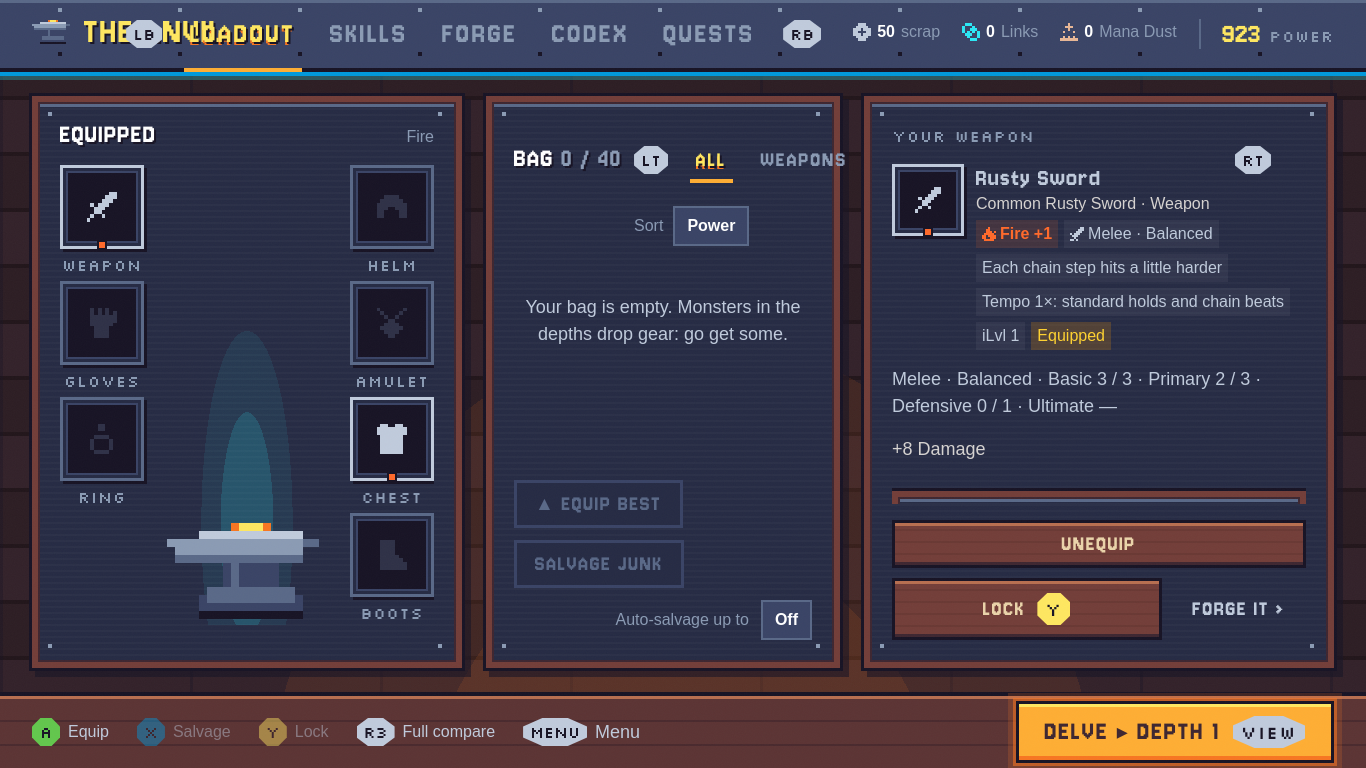
Test: AnvilHub › the footer's Menu (Esc / Menu) opens the system menu, and Resume closes it
Expected: the picture "Menu" is shown, top-left (523, 718), bottom-right (587, 746)
Click the button "Menu Menu": (582, 732) top-left (523, 716), bottom-right (640, 748)
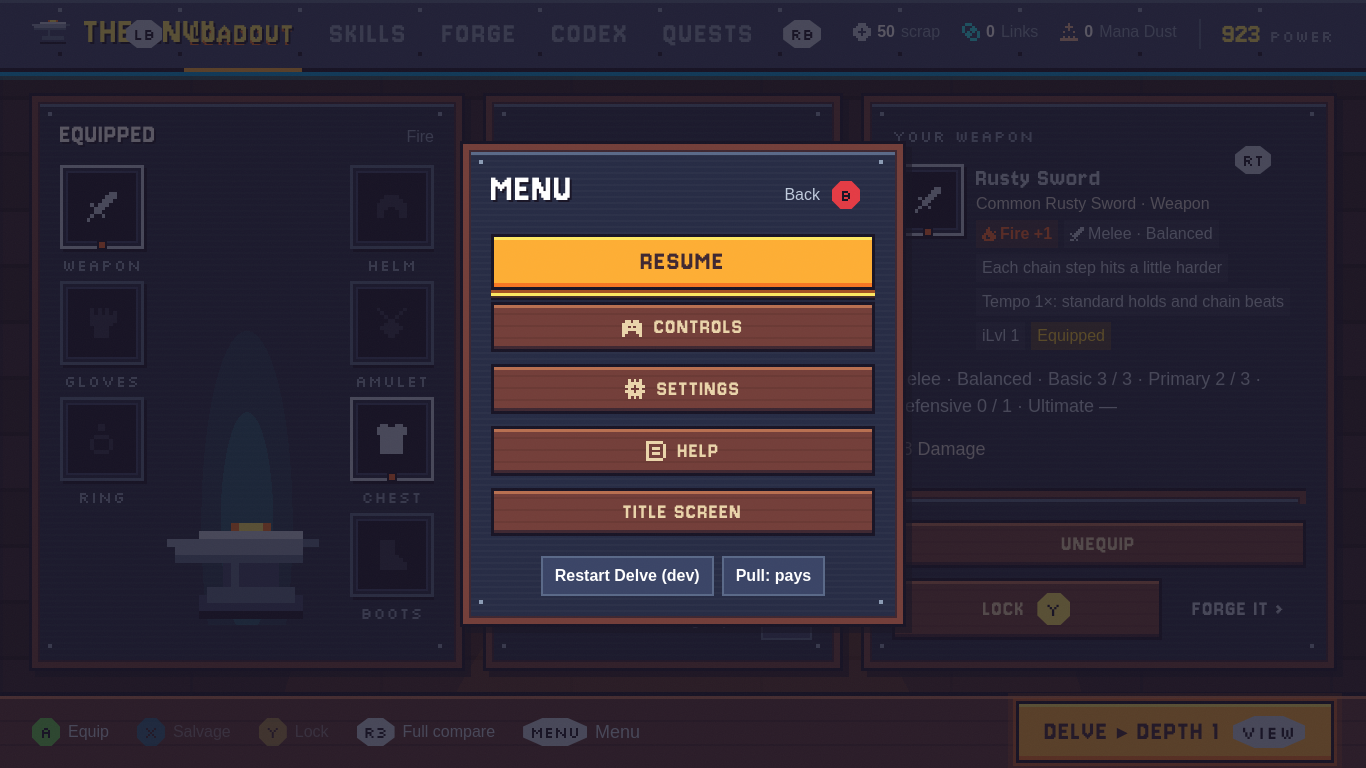
Expected: the dialog with test id "system-menu" is shown, top-left (463, 144), bottom-right (903, 624)
Click the button with test id "menu-resume": (683, 262) top-left (491, 234), bottom-right (875, 290)
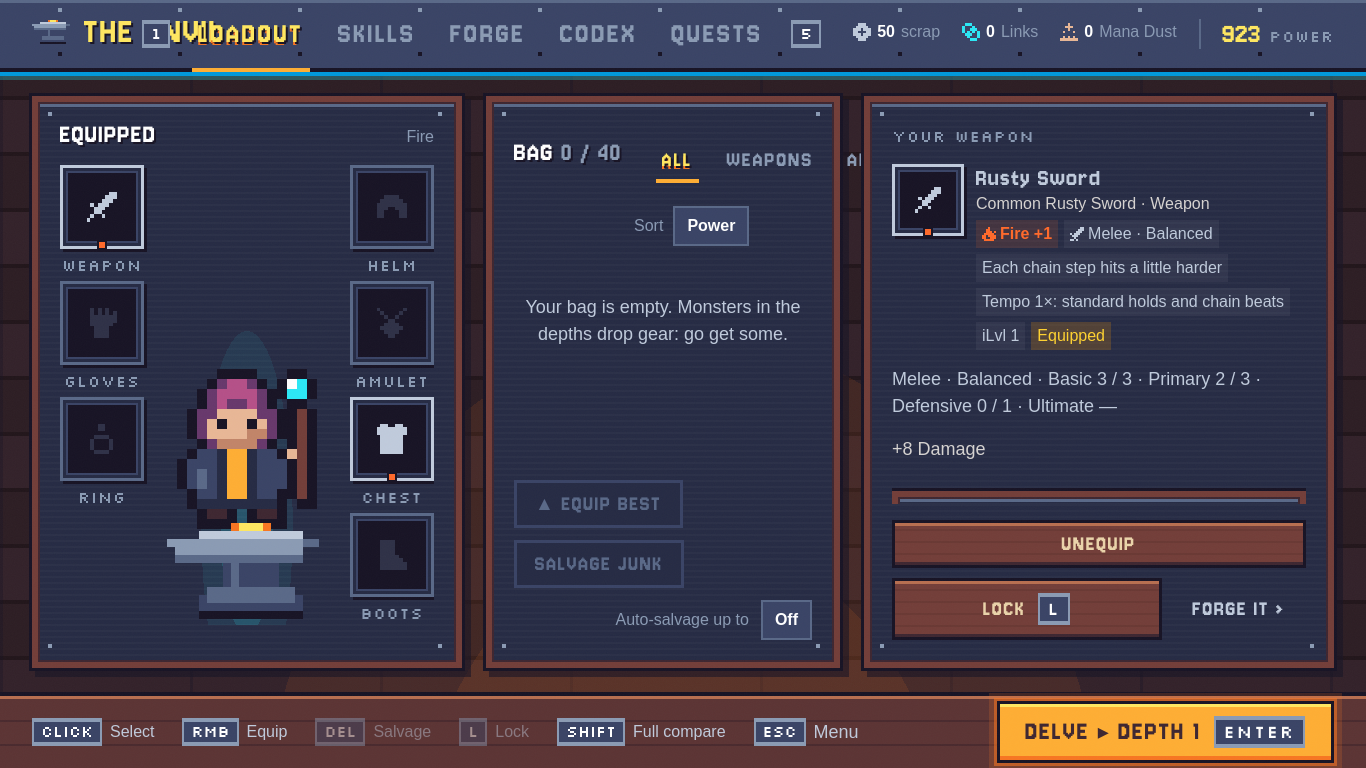
Expected: the dialog with test id "system-menu" is gone
